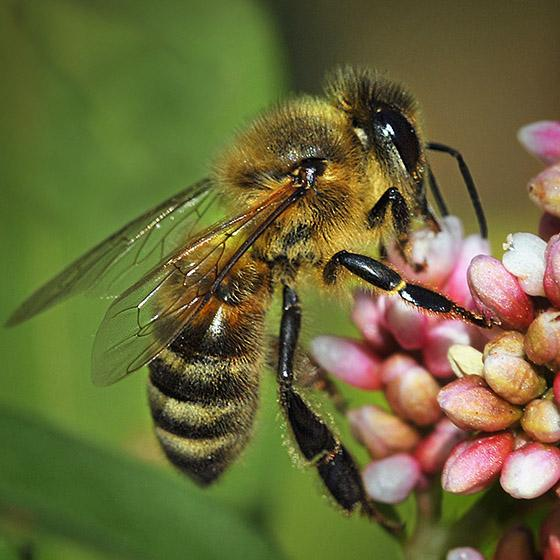Apis-mellifera-scutellata: (57, 47, 456, 522)
